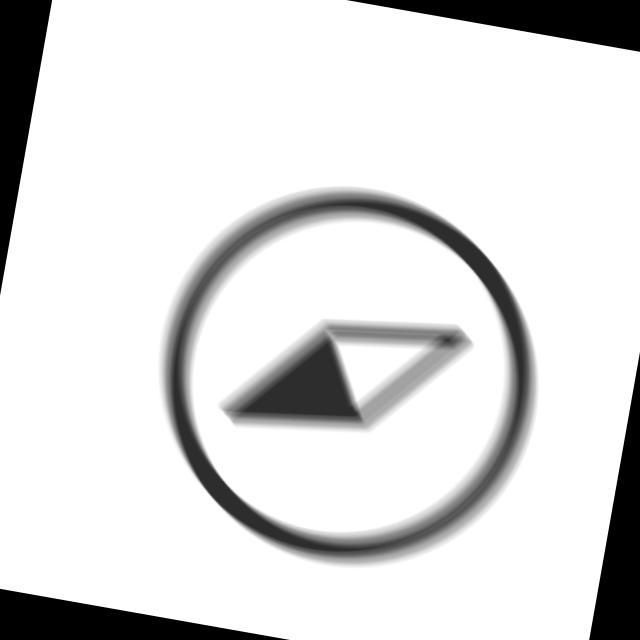compass: (124, 153, 574, 603)
